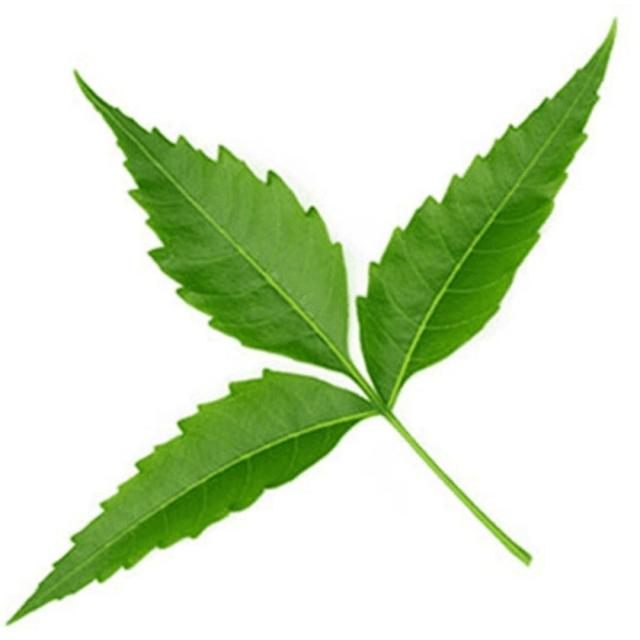Medicinal-Neem: (10, 23, 616, 626)
